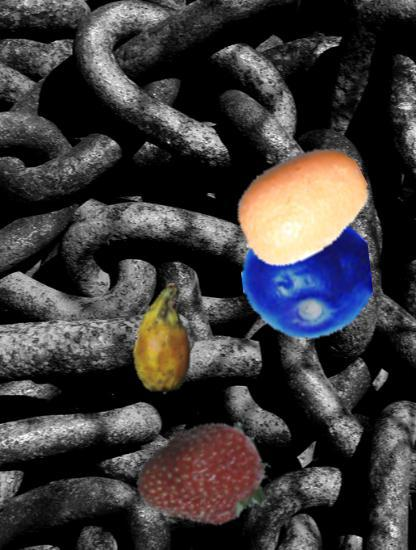Cactus: (107, 283, 219, 395)
Huckleberry: (242, 213, 371, 342)
Kumquats: (235, 139, 372, 276)
Strawberry: (137, 411, 272, 546)
